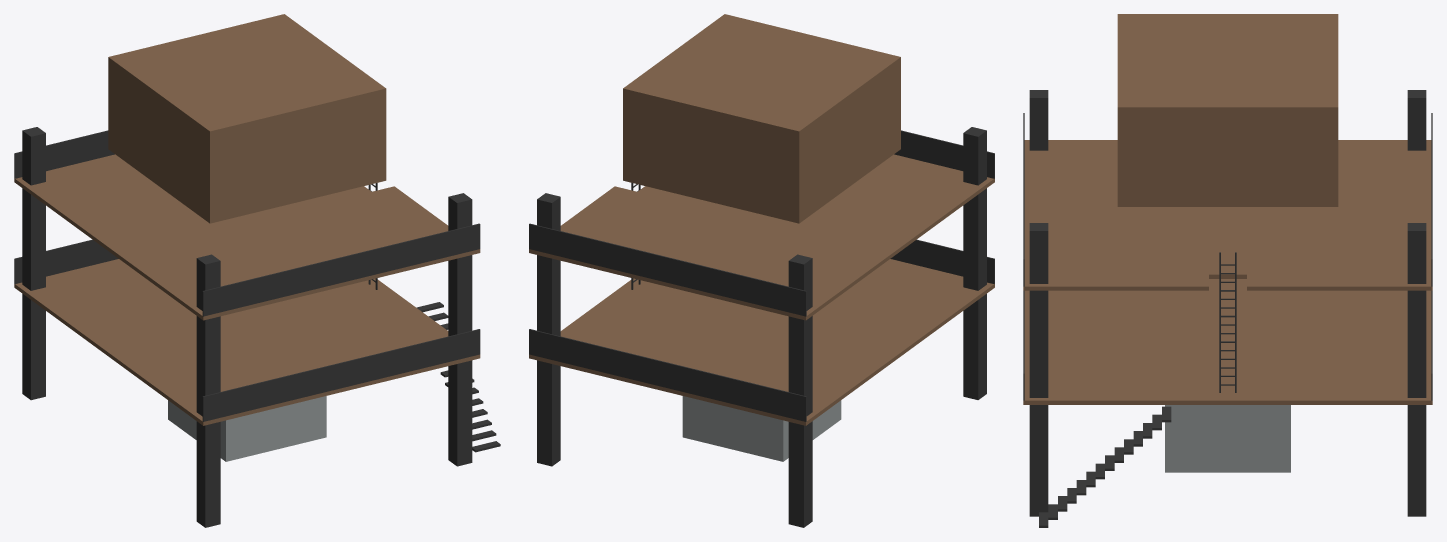
Rendered from britador_a.glb.
3 views of the same model, side by side, from view 1: azimuth 30°, elevation 25°; view 2: azimuth 150°, elevation 25°; view 3: azimuth 270°, elevation 25° (orthographic). The views are drawn at different scales.
Parts seen in each view (by area): view 1: britador_a; view 2: britador_a; view 3: britador_a.
Boxes of the visible parts, x1,y1,x2,y2 form: britador_a: (14, 14, 500, 527); britador_a: (529, 14, 994, 527); britador_a: (1023, 14, 1432, 527).
Size of the model in its own units: 12.1 by 13.5 by 13.
